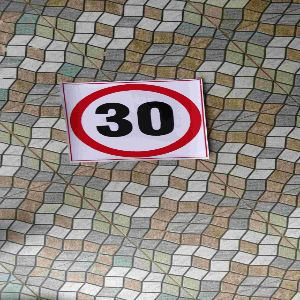speedlimit30: (63, 81, 207, 161)
